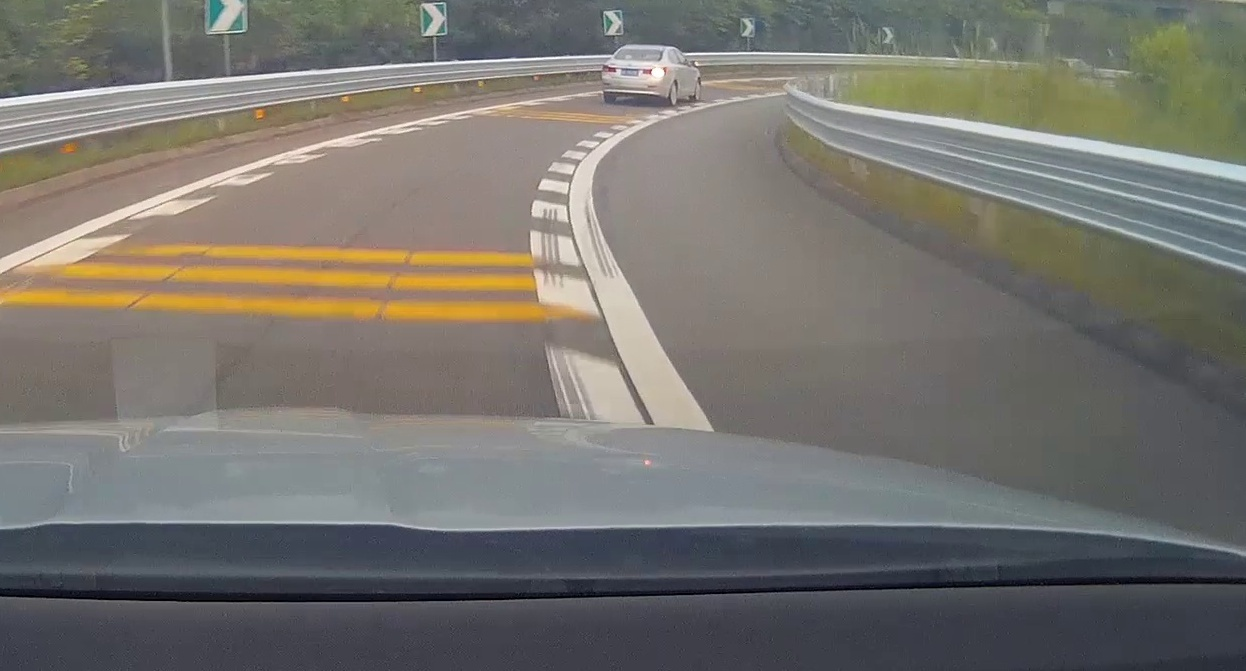L_light: (603, 64, 617, 72)
R_light: (642, 67, 665, 77)
T_light: (630, 56, 642, 61)
day-right: (602, 44, 667, 106)
